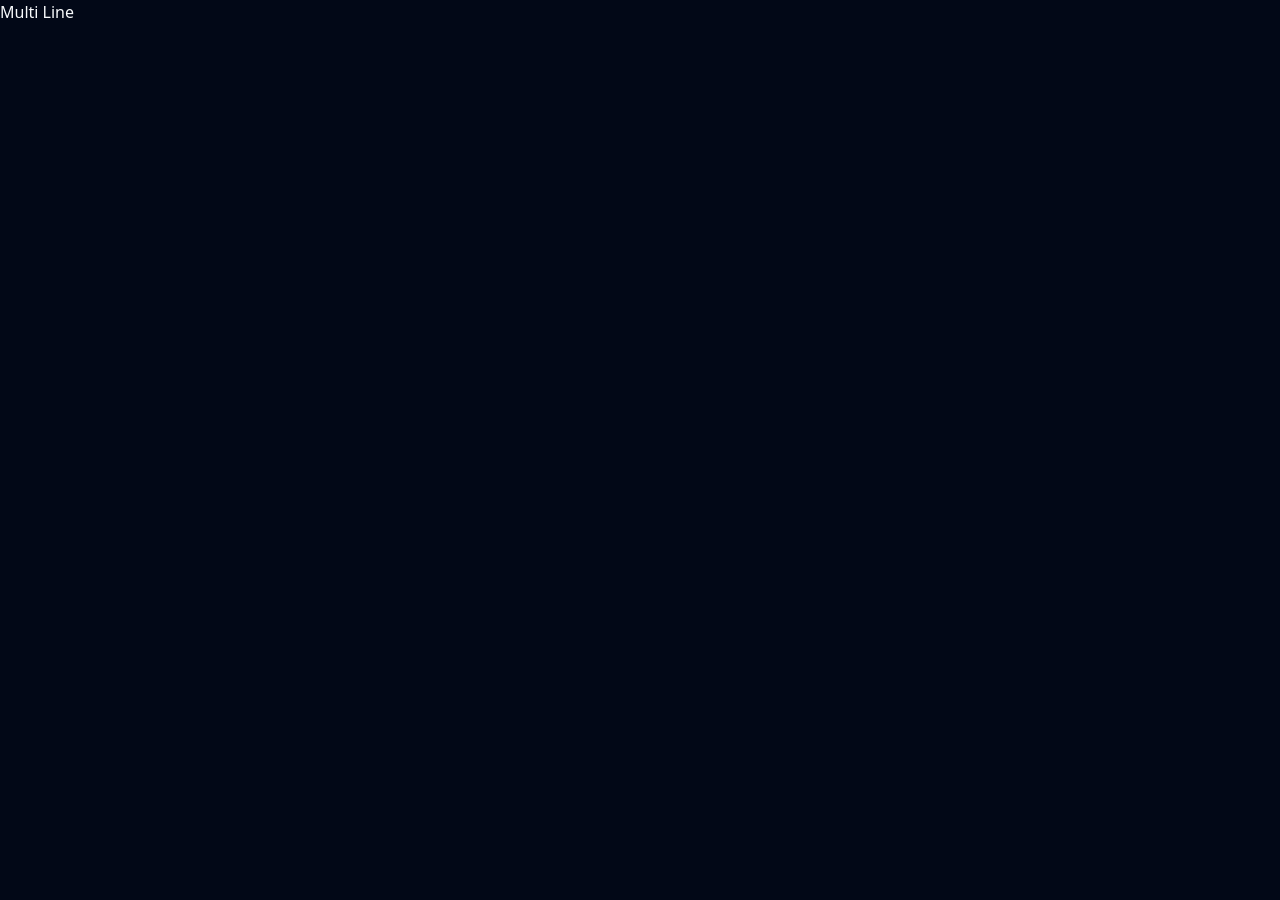
Test: Dialog组件系统 › DialogTitle › 应该支持多行文本
The width and height of the screenshot is (1280, 900).
Click the button "Multi Line" at point(37, 12), box [0,0,74,24]
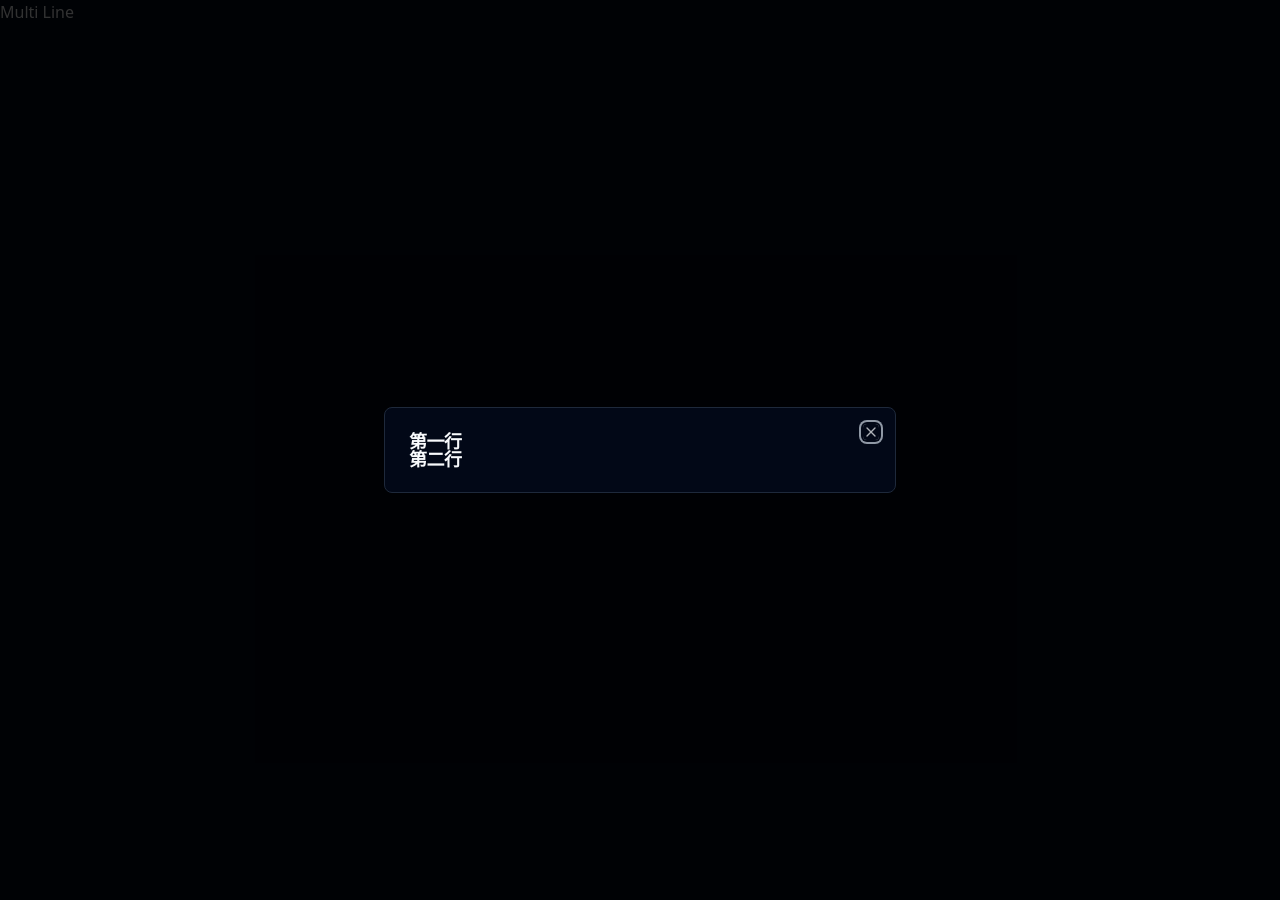
Now the heading with test id "multiline-dialog-title" is shown, box [409,429,462,471]
Now the heading with test id "multiline-dialog-title" shows "第一行", box [409,429,462,453]
Now the heading with test id "multiline-dialog-title" shows "第二行", box [409,447,462,471]
